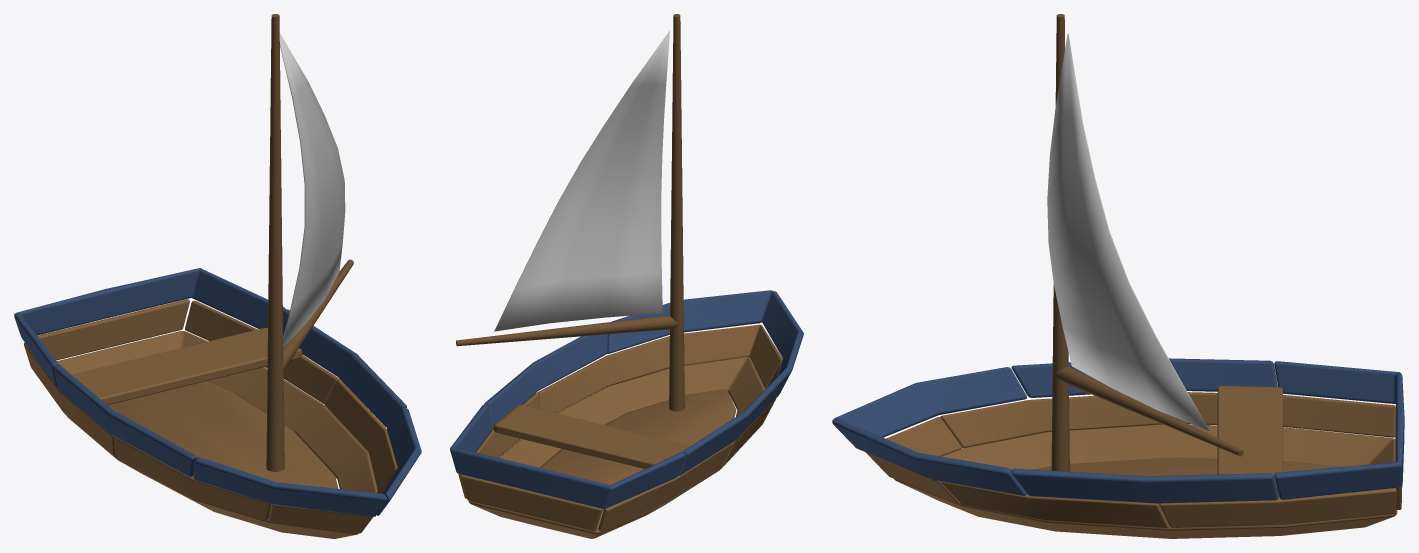
Rendered from boat.fbx.
The picture shows the model from 3 angles, left to right: view 1: azimuth 30°, elevation 25°; view 2: azimuth 150°, elevation 25°; view 3: azimuth 270°, elevation 25°; orthographic projection. The views are drawn at different scales.
Parts seen in each view (by area): view 1: Boat, Boat.003, Boat.001, Boat.002, Sail, Mast, Plane; view 2: Sail, Boat, Boat.003, Boat.002, Mast, Boat.001, Plane; view 3: Boat, Boat.003, Sail, Boat.002, Plane, Mast, Boat.001.
Boxes of the visible parts, bbox=[...] form: Boat: bbox=[14, 268, 421, 516]; Boat.003: bbox=[24, 299, 397, 533]; Boat.001: bbox=[108, 381, 338, 515]; Boat.002: bbox=[57, 331, 377, 538]; Sail: bbox=[279, 33, 345, 347]; Mast: bbox=[266, 14, 353, 471]; Plane: bbox=[72, 328, 302, 404]; Sail: bbox=[494, 30, 669, 331]; Boat: bbox=[450, 290, 803, 508]; Boat.003: bbox=[458, 324, 782, 531]; Boat.002: bbox=[468, 357, 765, 538]; Mast: bbox=[456, 14, 684, 411]; Boat.001: bbox=[540, 389, 736, 528]; Plane: bbox=[493, 405, 690, 468]; Boat: bbox=[832, 358, 1404, 503]; Boat.003: bbox=[865, 392, 1402, 528]; Sail: bbox=[1047, 33, 1209, 430]; Boat.002: bbox=[894, 424, 1397, 538]; Plane: bbox=[1217, 385, 1282, 494]; Mast: bbox=[1051, 14, 1243, 471]; Boat.001: bbox=[1034, 457, 1342, 498].
Size of the model in its own units: 304 by 480 by 512.
